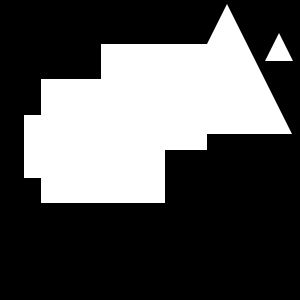circle: (41, 79, 165, 203), (101, 44, 207, 150), (24, 115, 87, 178)
triangle: (162, 4, 292, 134), (265, 33, 293, 61)
